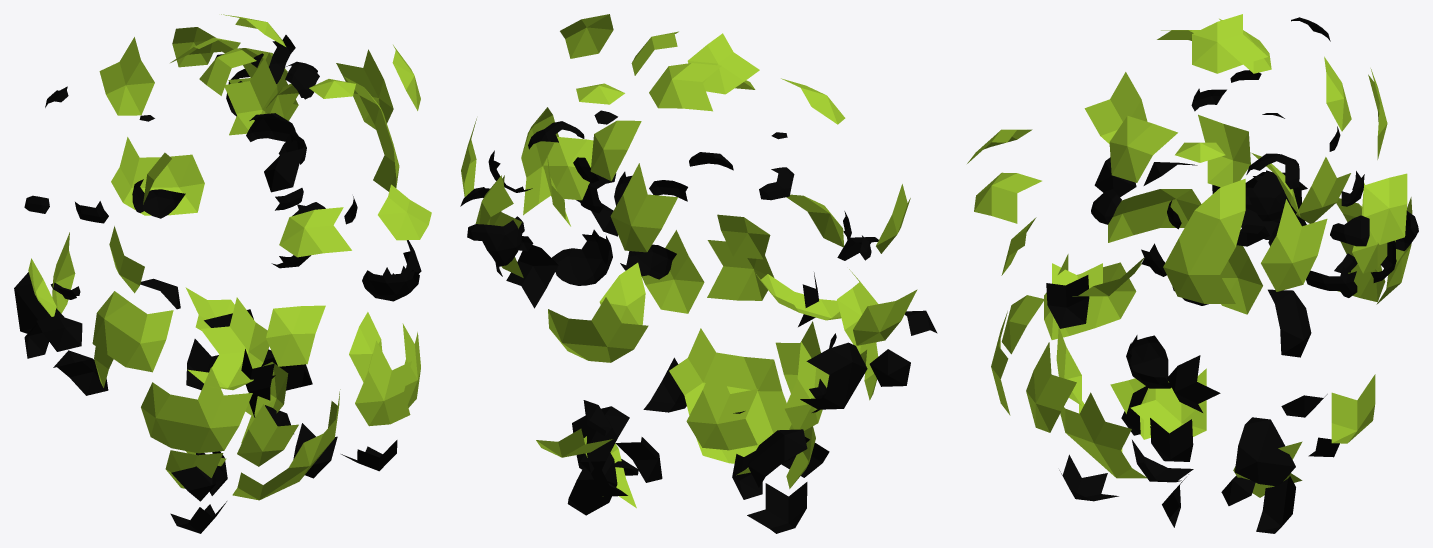
File: explode.f0005.glb
3 views of the same model, side by side, from view 1: azimuth 30°, elevation 25°; view 2: azimuth 150°, elevation 25°; view 3: azimuth 270°, elevation 25° (orthographic). The views are drawn at different scales.
Visible parts, largest first — view 1: Body.001; view 2: Body.001; view 3: Body.001.
Boxes of the visible parts, bbox=[...] form: Body.001: bbox=[14, 14, 431, 533]; Body.001: bbox=[460, 14, 937, 533]; Body.001: bbox=[967, 14, 1418, 533].
Bounding box in the file's own units: 4.69 × 5.4 × 4.44.
Materials: 1 (1 with a texture image).
